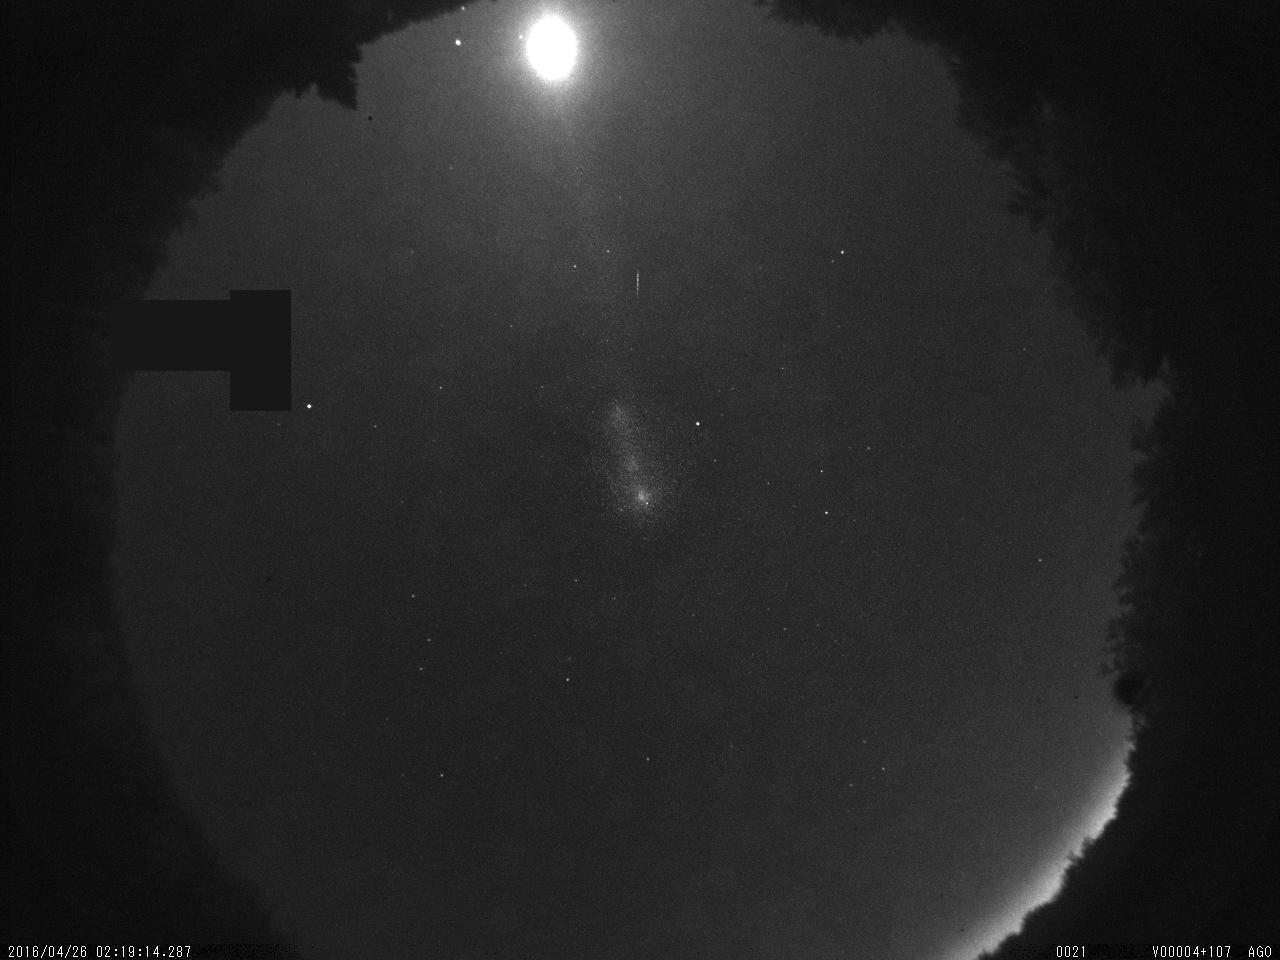meteor: (616, 259, 662, 298)
